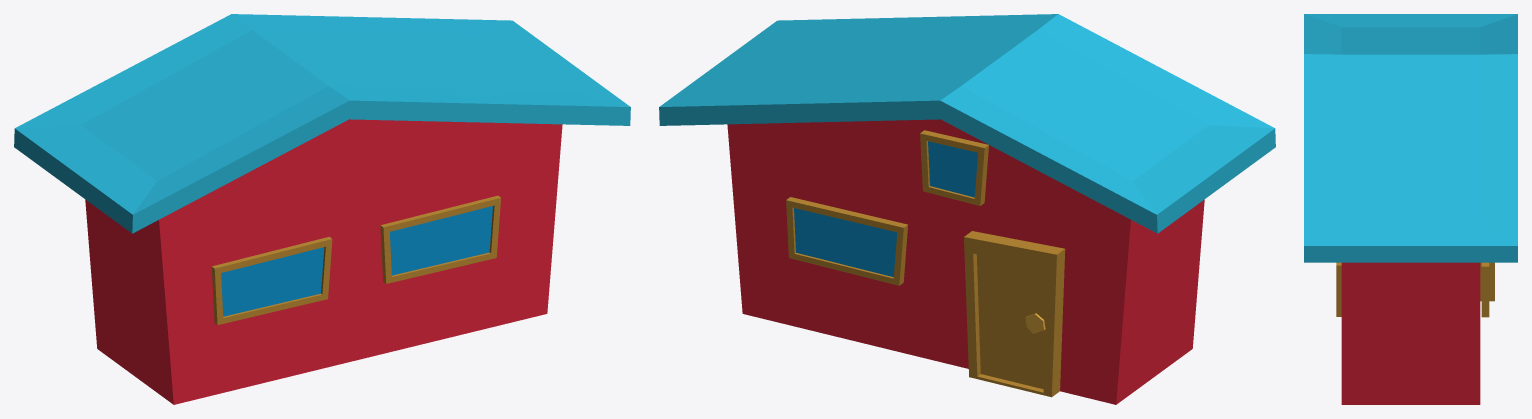
File: House2.fbx
3 renders of one model, left to right at view 1: azimuth 30°, elevation 25°; view 2: azimuth 150°, elevation 25°; view 3: azimuth 270°, elevation 25°, orthographic. The views are drawn at different scales.
Parts seen in each view (by area): view 1: Cube, Cube.005, Cube.004; view 2: Cube, Cube.001, Cube.003, Cube.002; view 3: Cube, Cube.003, Cube.004, Cube.001.
Boxes of the visible parts, x1,y1,x2,y2 form: Cube: (14,14,630,404); Cube.005: (211,236,332,325); Cube.004: (380,195,500,283); Cube: (659,14,1275,404); Cube.001: (964,231,1065,397); Cube.003: (786,197,907,285); Cube.002: (920,130,988,205); Cube: (1304,14,1517,404); Cube.003: (1481,262,1489,317); Cube.004: (1336,262,1341,316); Cube.001: (1480,262,1494,301).
Size of the model in its own units: 751 by 406 by 309.
